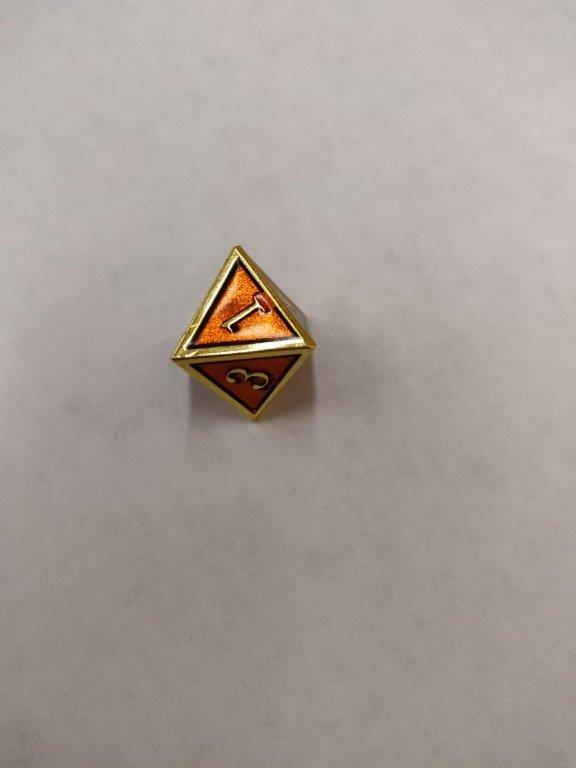d8-1: (171, 242, 317, 423)
